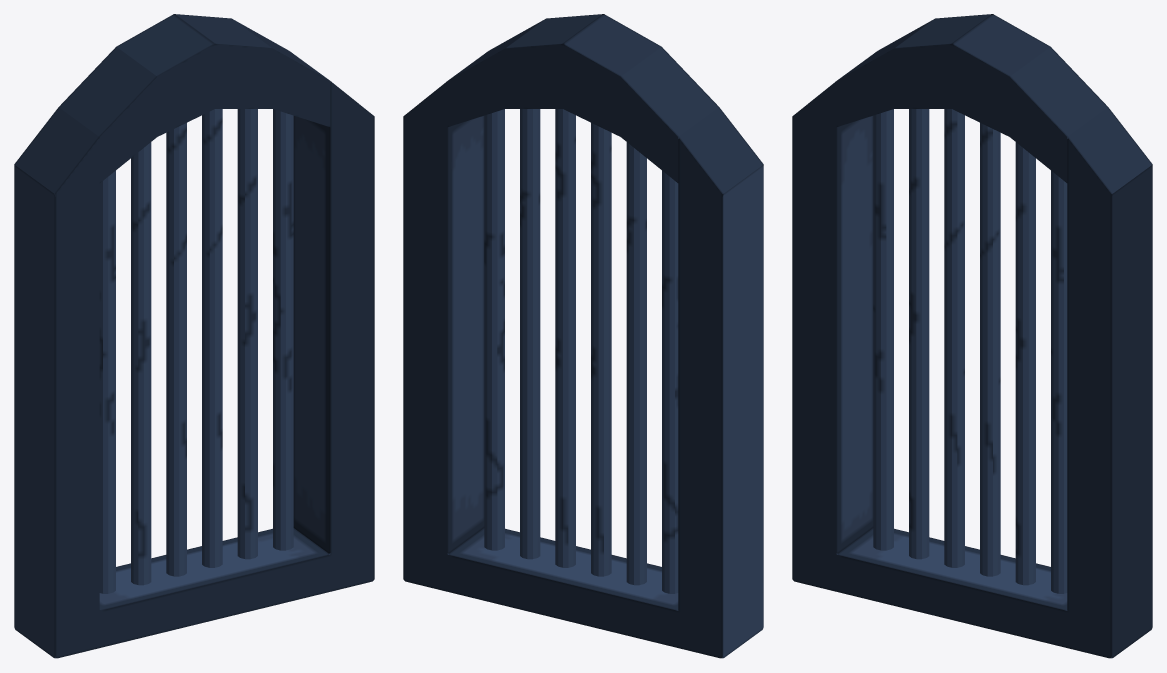
File: Door.fbx
3 views of the same model, side by side, from view 1: azimuth 30°, elevation 25°; view 2: azimuth 150°, elevation 25°; view 3: azimuth 330°, elevation 25° (orthographic).
Visible parts, largest first — view 1: DoorFrame, cylinder_1, cylinder, cylinder_4, cylinder_5, cylinder_3, cylinder_2; view 2: DoorFrame, cylinder_1, cylinder, cylinder_4, cylinder_5, cylinder_3, cylinder_2; view 3: DoorFrame, cylinder_4, cylinder_3, cylinder_1, cylinder_2, cylinder, cylinder_5.
Boxes of the visible parts, x1=… form: DoorFrame: x1=14, y1=14, x2=374, y2=658; cylinder_1: x1=202, y1=109, x2=222, y2=567; cylinder: x1=237, y1=109, x2=257, y2=559; cylinder_4: x1=166, y1=123, x2=186, y2=576; cylinder_5: x1=273, y1=109, x2=293, y2=550; cylinder_3: x1=131, y1=142, x2=151, y2=585; cylinder_2: x1=99, y1=170, x2=115, y2=610; DoorFrame: x1=403, y1=14, x2=763, y2=658; cylinder_1: x1=555, y1=109, x2=575, y2=567; cylinder: x1=520, y1=109, x2=540, y2=559; cylinder_4: x1=591, y1=123, x2=611, y2=576; cylinder_5: x1=484, y1=109, x2=504, y2=550; cylinder_3: x1=626, y1=142, x2=646, y2=585; cylinder_2: x1=662, y1=137, x2=678, y2=610; DoorFrame: x1=792, y1=14, x2=1152, y2=658; cylinder_4: x1=944, y1=109, x2=964, y2=567; cylinder_3: x1=909, y1=109, x2=929, y2=559; cylinder_1: x1=980, y1=123, x2=1000, y2=576; cylinder_2: x1=873, y1=109, x2=893, y2=550; cylinder: x1=1015, y1=142, x2=1035, y2=585; cylinder_5: x1=1051, y1=137, x2=1067, y2=610.
Size of the model in its own units: 450 by 775 by 100.
4 materials, 4 textured.
